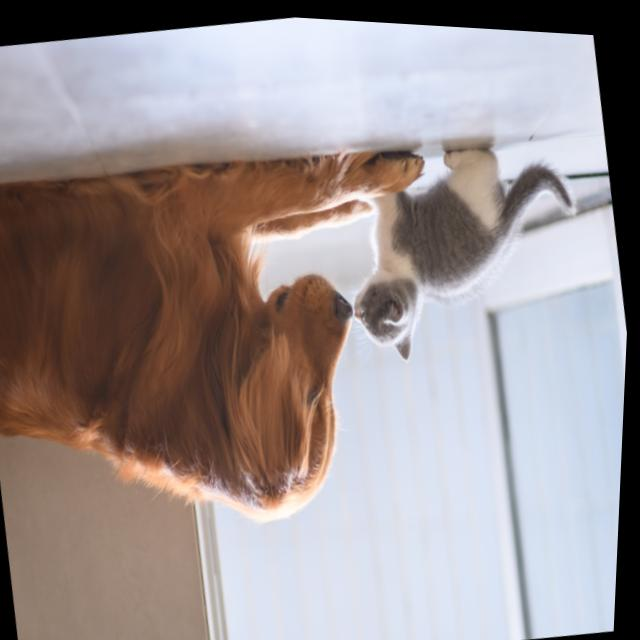Cat: (327, 101, 612, 384)
Dog: (0, 86, 397, 599)
